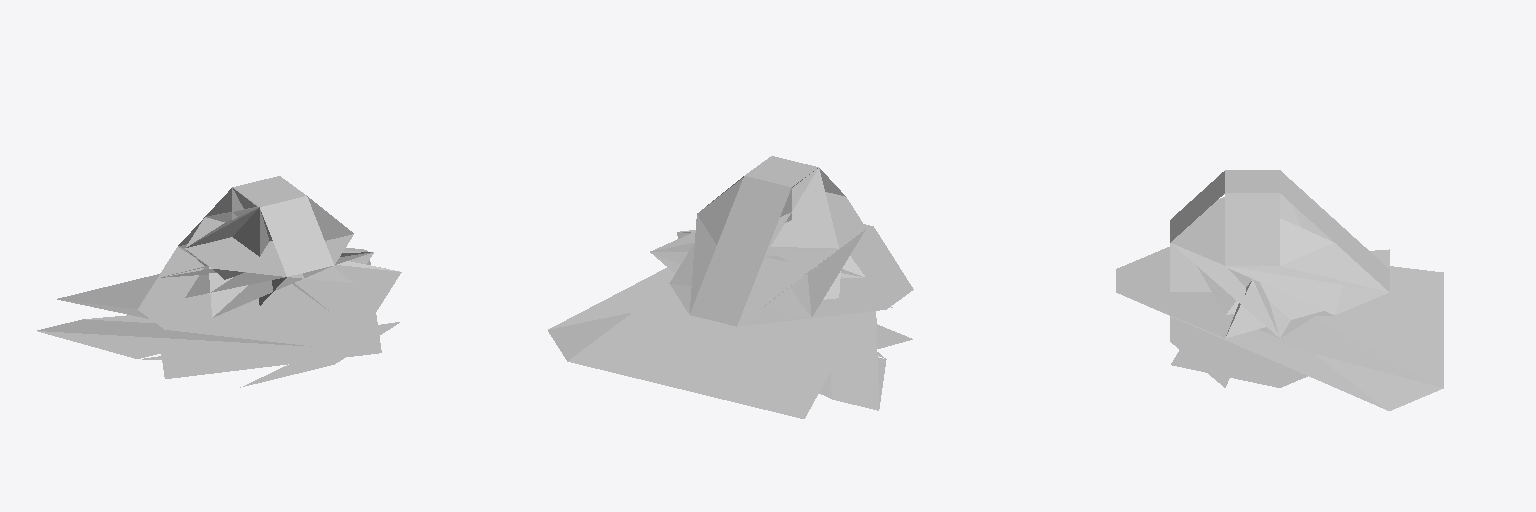
The model's file is Floor Lamp 2.obj.
3 renders of one model, left to right at view 1: azimuth 30°, elevation 25°; view 2: azimuth 150°, elevation 25°; view 3: azimuth 270°, elevation 25°, orthographic.
Size of the model in its own units: 7 by 3 by 6.